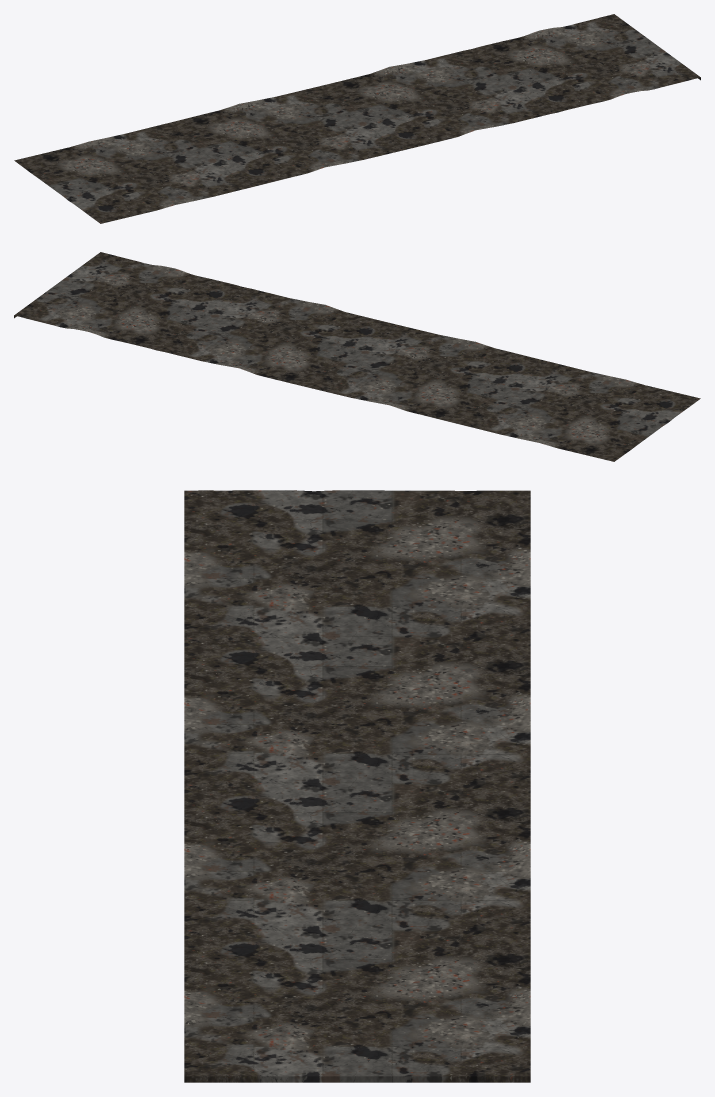
The model's file is Ground_Side_Left.fbx.
3 renders of one model, top to bottom at view 1: azimuth 30°, elevation 25°; view 2: azimuth 150°, elevation 25°; view 3: azimuth 270°, elevation 25°, orthographic. The views are drawn at different scales.
Parts seen in each view (by area): view 1: Ground_Side_Left; view 2: Ground_Side_Left; view 3: Ground_Side_Left.
Boxes of the visible parts, bbox=[...] form: Ground_Side_Left: bbox=[14, 14, 700, 223]; Ground_Side_Left: bbox=[14, 252, 700, 461]; Ground_Side_Left: bbox=[184, 490, 530, 1082].
Size of the model in its own units: 8000 by 66.46 by 2000.
